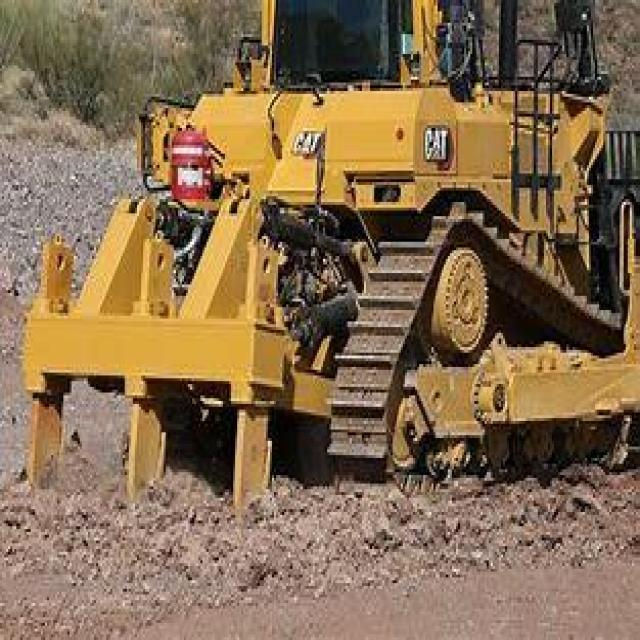Bulldozer: (8, 3, 638, 532)
